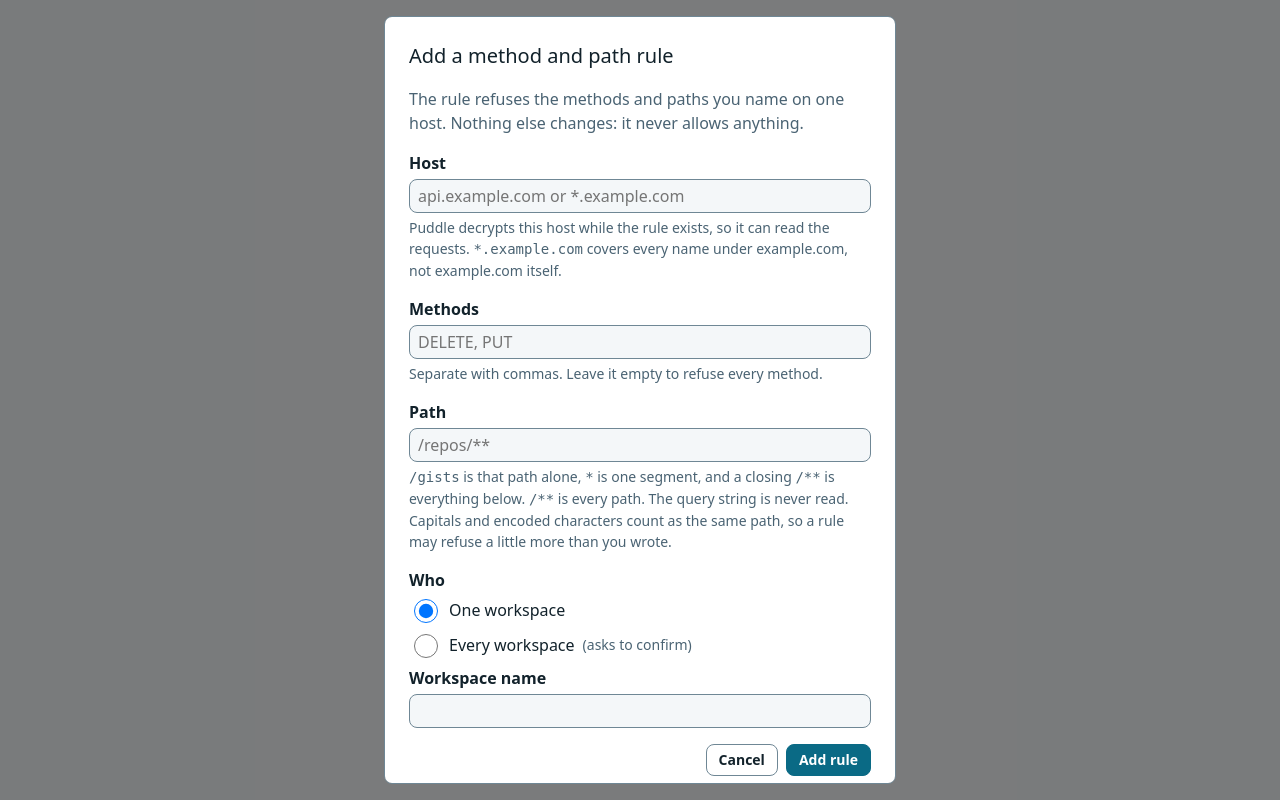
Scenario: the Add method and path rule dialog › shows the workspace field again when One workspace is chosen after Every workspace
The width and height of the screenshot is (1280, 800).
Expected: the dialog "Add a method and path rule" is shown, [384, 16, 896, 784]
Click the radio button labelled "Every workspace (asks to confirm)" at (426, 646), box [414, 634, 438, 658]
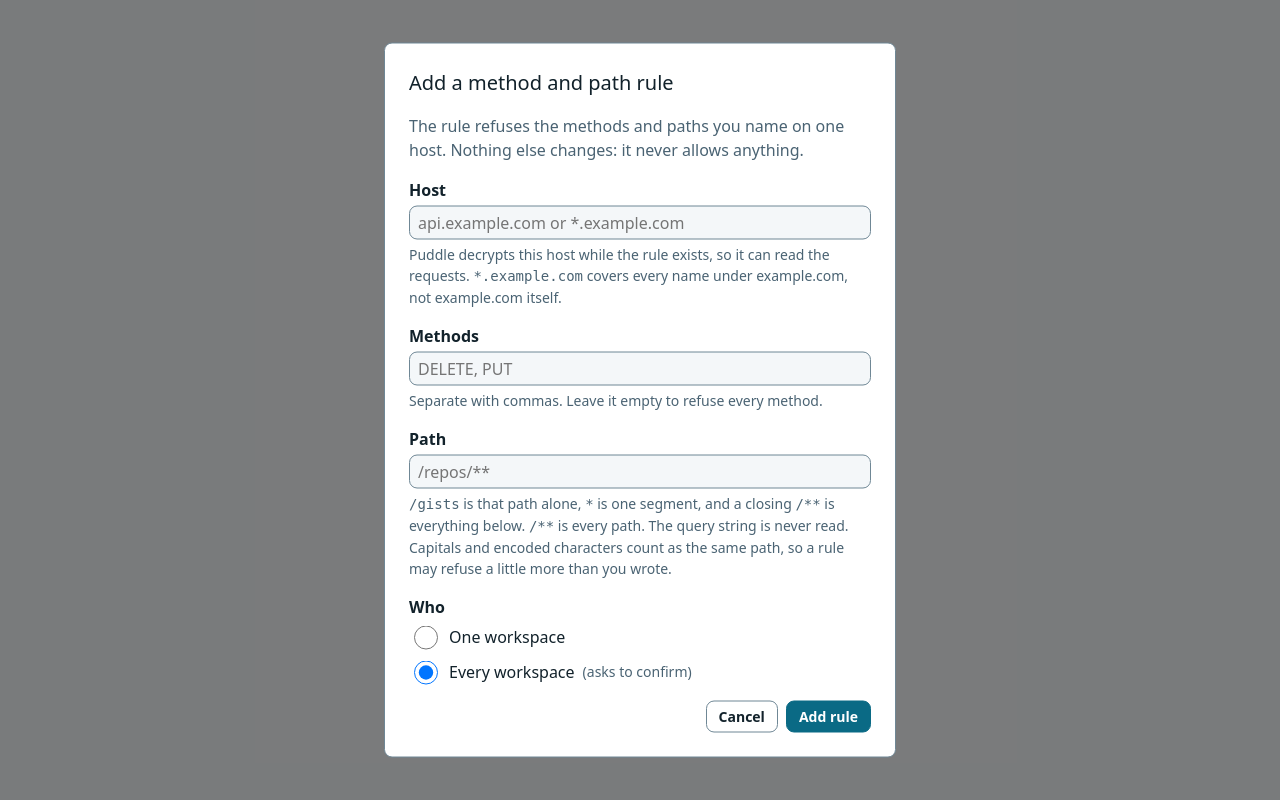
Result: the label labelled "Workspace name" is gone
Click the radio button labelled "One workspace" at (426, 638), box [414, 626, 438, 650]
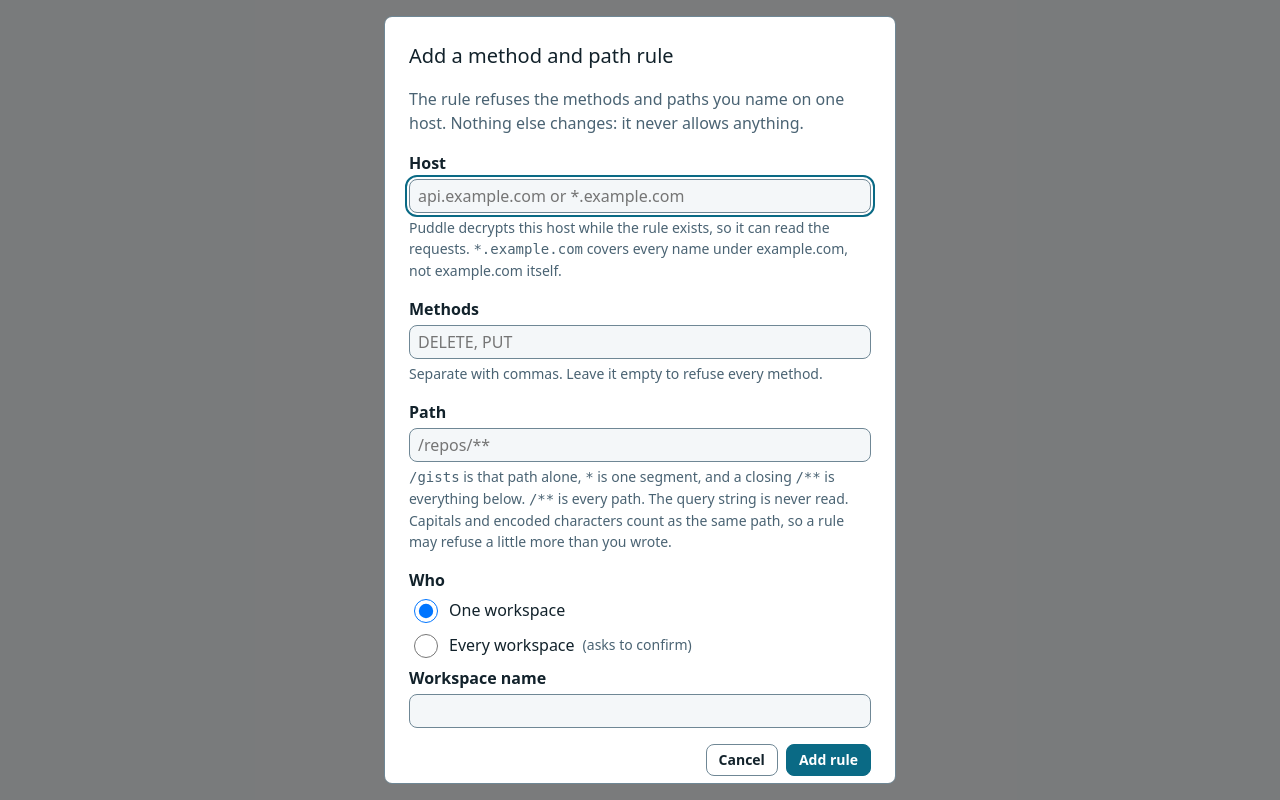
Result: the field labelled "Workspace name" is shown at [409, 694, 871, 728]
